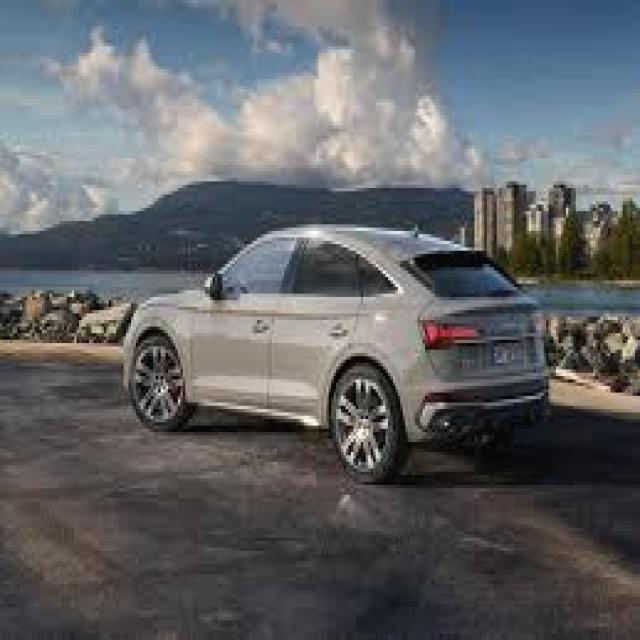SUV: (118, 225, 555, 482)
